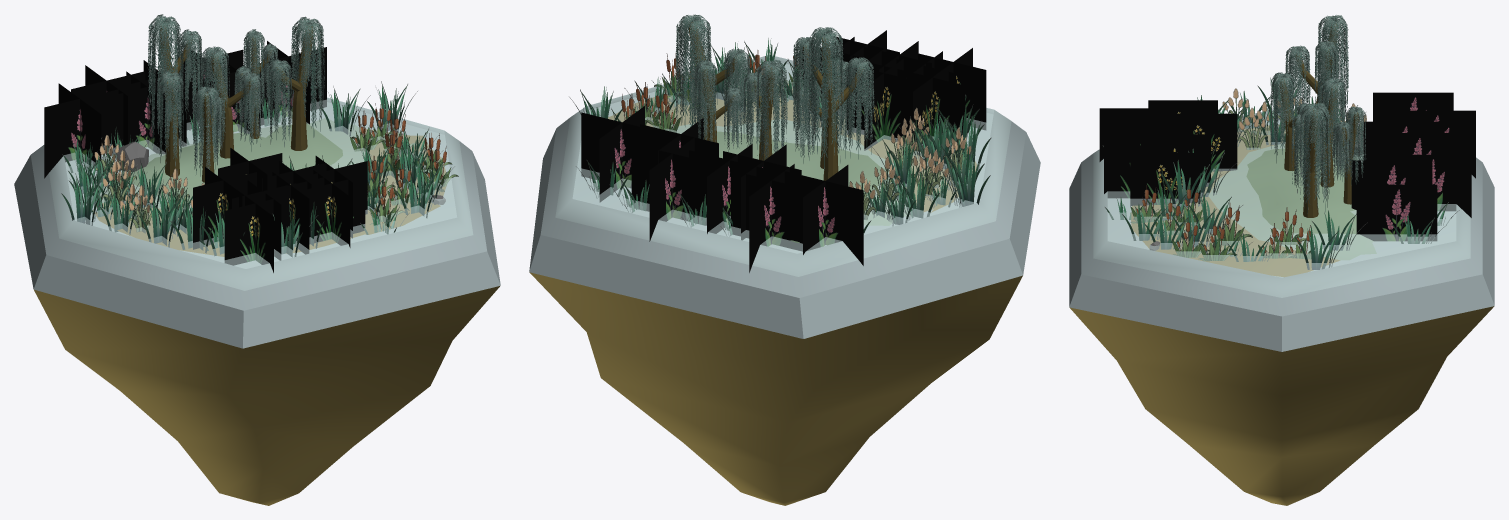
The model's file is Advanced Habitat_1.4.fbx.
The picture shows the model from 3 angles, left to right: view 1: azimuth 30°, elevation 25°; view 2: azimuth 150°, elevation 25°; view 3: azimuth 270°, elevation 25°; orthographic projection. The views are drawn at different scales.
Parts seen in each view (by area): view 1: polySurface2832; view 2: polySurface2832; view 3: polySurface2832.
Part boxes in pixels (box(x1,y1,x2,y2)): polySurface2832: box(14, 14, 500, 505); polySurface2832: box(529, 14, 1040, 505); polySurface2832: box(1069, 15, 1494, 505).
Size of the model in its own units: 11.53 by 11.75 by 9.99.
16 materials, 6 textured.
